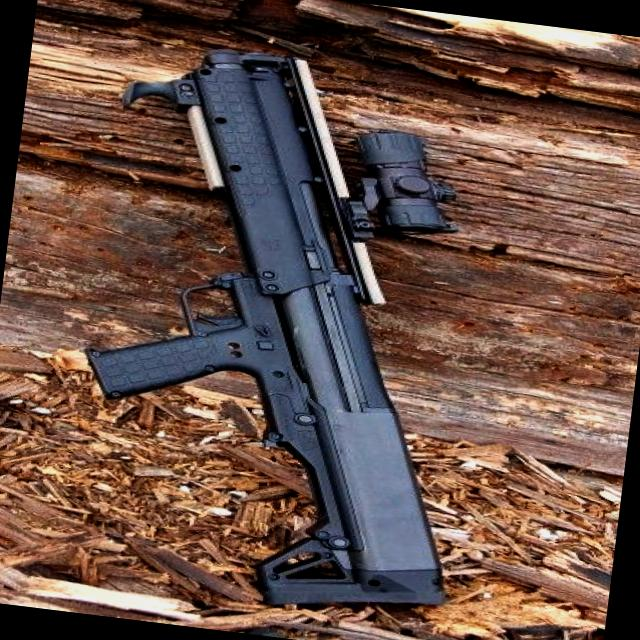shotgun: (21, 15, 586, 640)
